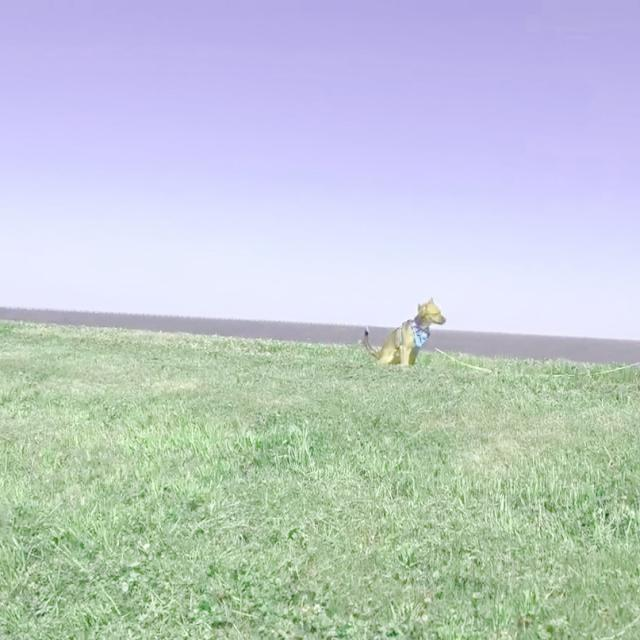Dog: (362, 296, 446, 366)
